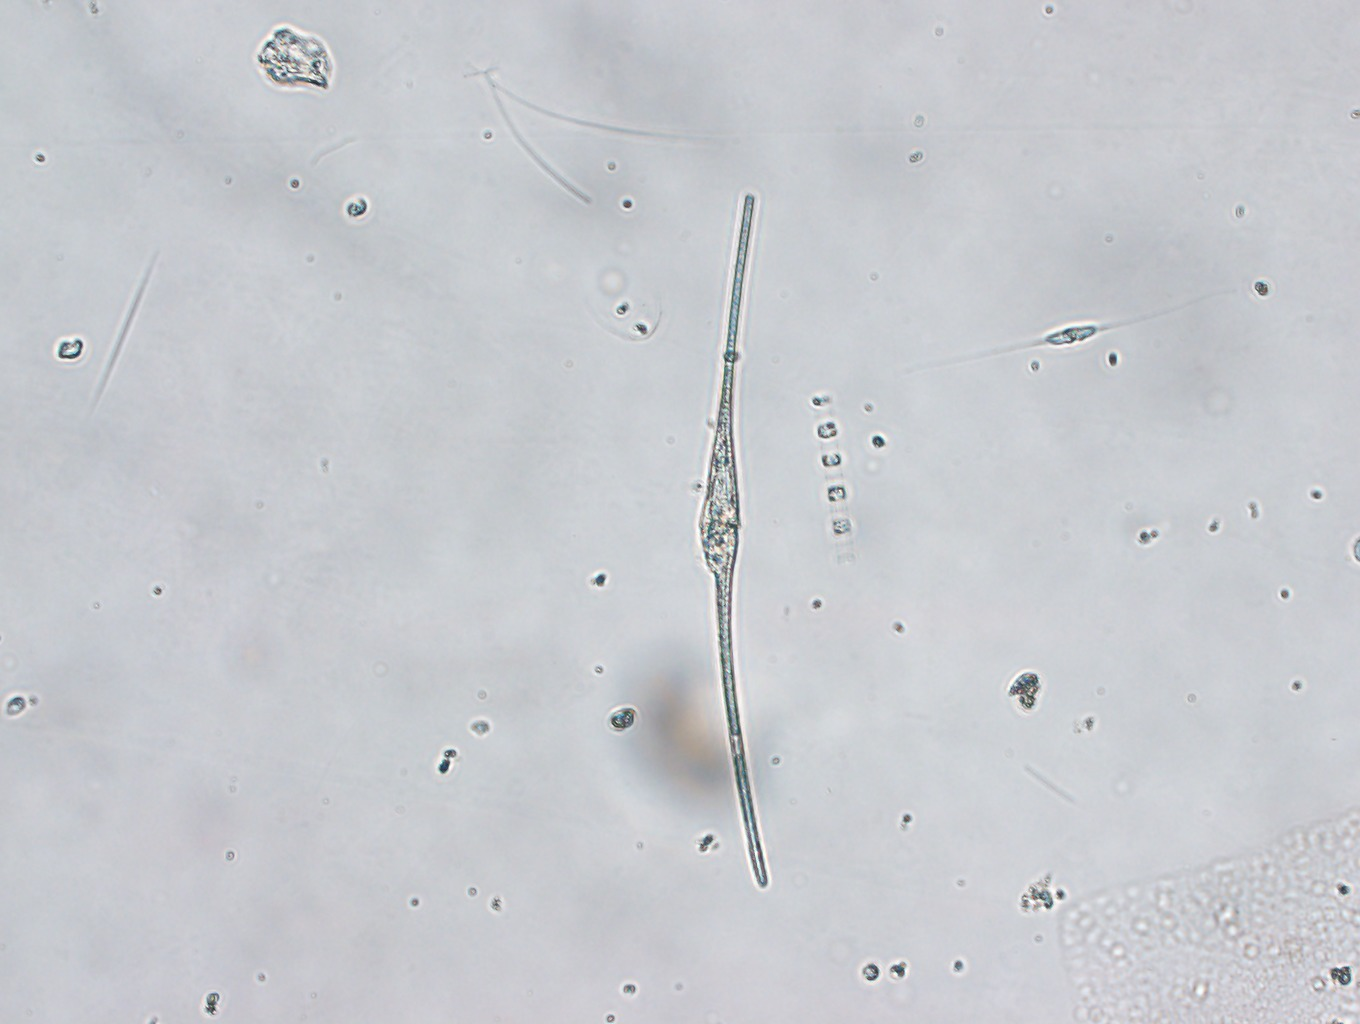ceratium fusus: (695, 195, 771, 890)
skeletonema: (810, 392, 851, 556)
